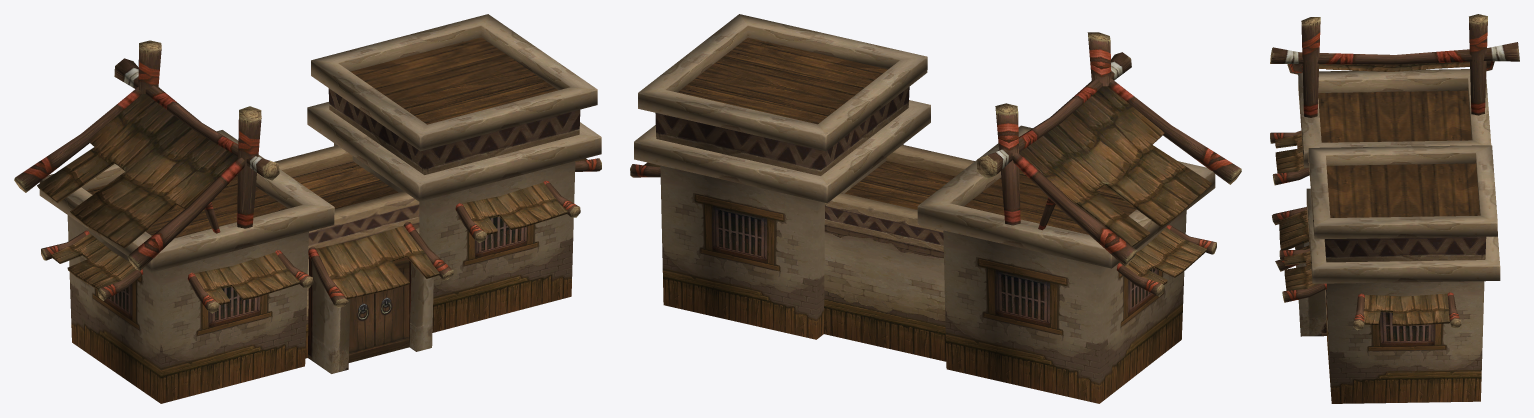
File: environment_Building_shamomingju_002_a.FBX
3 views of the same model, side by side, from view 1: azimuth 30°, elevation 25°; view 2: azimuth 150°, elevation 25°; view 3: azimuth 270°, elevation 25° (orthographic). The views are drawn at different scales.
Parts seen in each view (by area): view 1: environment_Building_shamomingju_002_e, environment_Building_shamomingju_002_a, environment_Building_shamomingju_002_d, environment_Building_shamomingju_002_b, environment_Building_shamomingju_002_c, environment_Building_shamomingju_002_f; view 2: environment_Building_shamomingju_002_e, environment_Building_shamomingju_002_b, environment_Building_shamomingju_002_a, environment_Building_shamomingju_002_d, environment_Building_shamomingju_002_c; view 3: environment_Building_shamomingju_002_a, environment_Building_shamomingju_002_b, environment_Building_shamomingju_002_e, environment_Building_shamomingju_002_c, environment_Building_shamomingju_002_d.
Part boxes in pixels (left/top/right/bottom): environment_Building_shamomingju_002_e: left=67, top=143, right=575, bottom=403; environment_Building_shamomingju_002_a: left=39, top=14, right=601, bottom=373; environment_Building_shamomingju_002_d: left=37, top=94, right=587, bottom=304; environment_Building_shamomingju_002_b: left=86, top=37, right=580, bottom=358; environment_Building_shamomingju_002_c: left=14, top=40, right=601, bottom=313; environment_Building_shamomingju_002_f: left=348, top=257, right=409, bottom=362; environment_Building_shamomingju_002_e: left=660, top=144, right=1186, bottom=403; environment_Building_shamomingju_002_b: left=655, top=37, right=1136, bottom=361; environment_Building_shamomingju_002_a: left=634, top=14, right=1215, bottom=268; environment_Building_shamomingju_002_d: left=644, top=86, right=1212, bottom=284; environment_Building_shamomingju_002_c: left=630, top=32, right=1241, bottom=296; environment_Building_shamomingju_002_a: left=1295, top=69, right=1500, bottom=336; environment_Building_shamomingju_002_b: left=1318, top=90, right=1486, bottom=262; environment_Building_shamomingju_002_e: left=1325, top=281, right=1484, bottom=403; environment_Building_shamomingju_002_c: left=1270, top=14, right=1519, bottom=330; environment_Building_shamomingju_002_d: left=1275, top=62, right=1469, bottom=325.
Bounding box in the file's own units: 1283 × 660 × 617.
